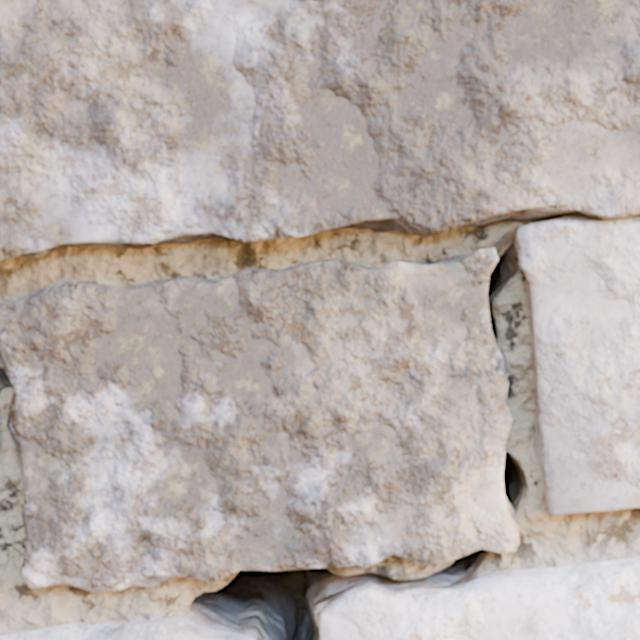broken_brick: (320, 556, 639, 639), (0, 616, 256, 639)
crack: (0, 0, 639, 639)
